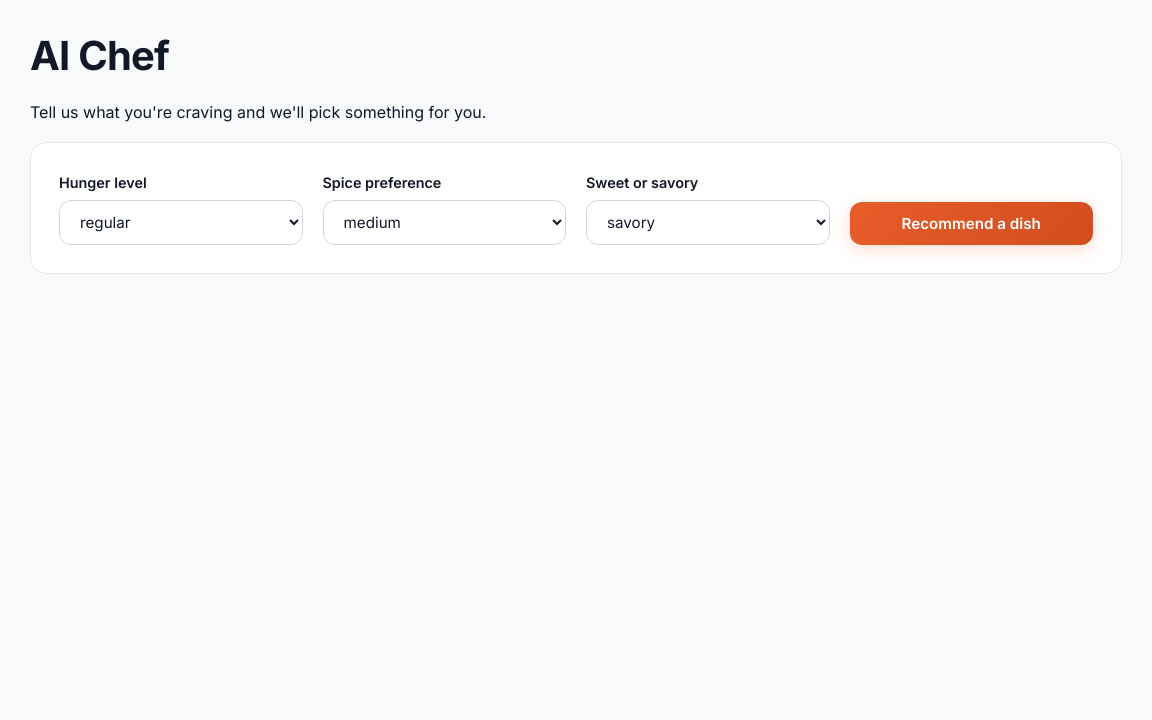
it: AIChefView renders a recommendation with confidence (Req 8.2, 8.3) › shows the recommended item and its confidence score after submit
Select "light" in the dropdown with test id "ai-chef-hunger" at (181, 223), box [59,200,302,245]
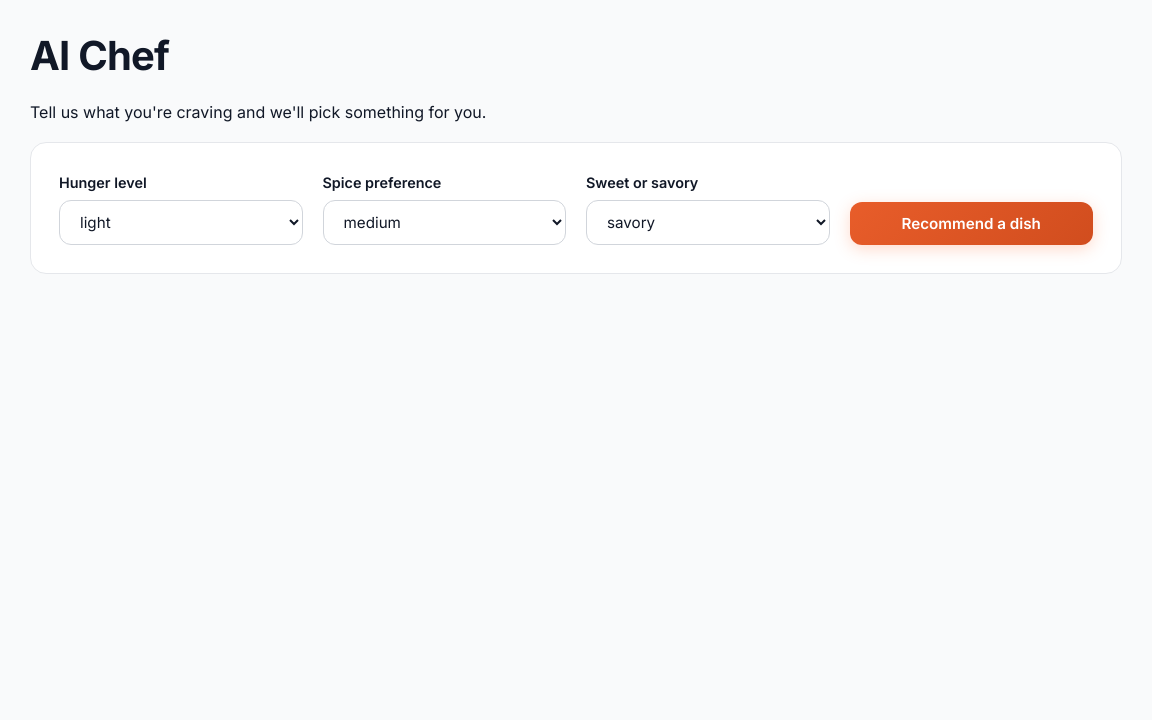
Select "mild" in the dropdown with test id "ai-chef-spice" at (444, 223), box [322,200,566,245]
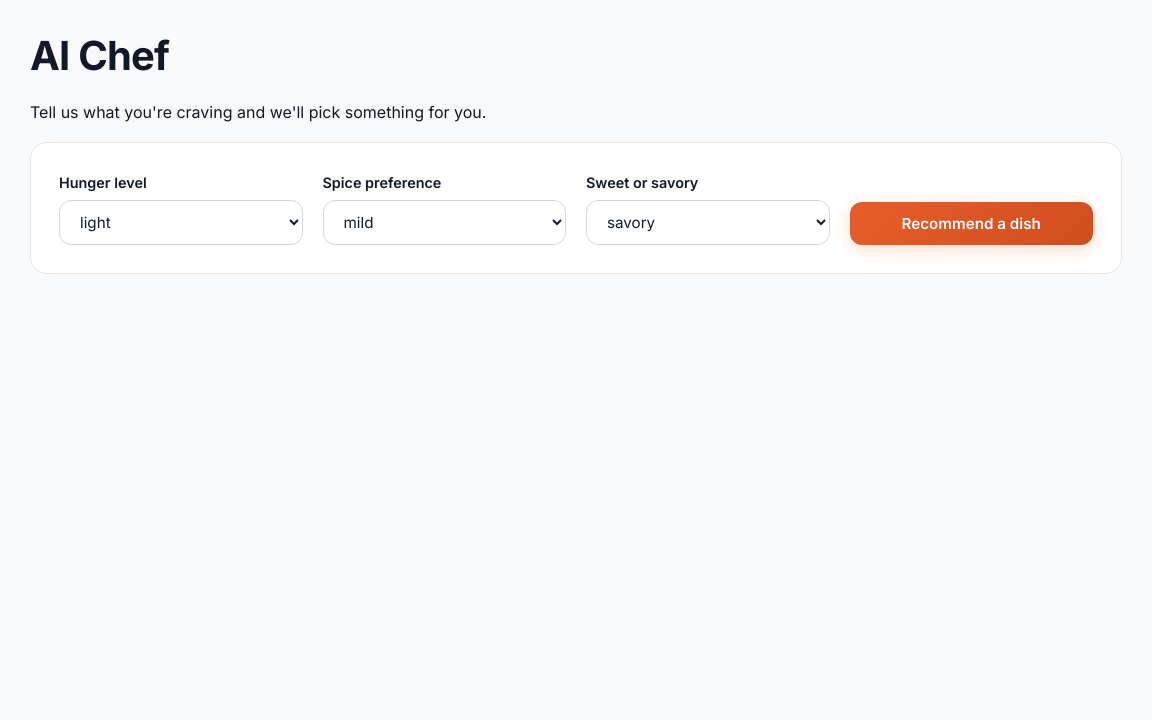
Select "sweet" in the dropdown with test id "ai-chef-taste" at (708, 223), box [586,200,830,245]
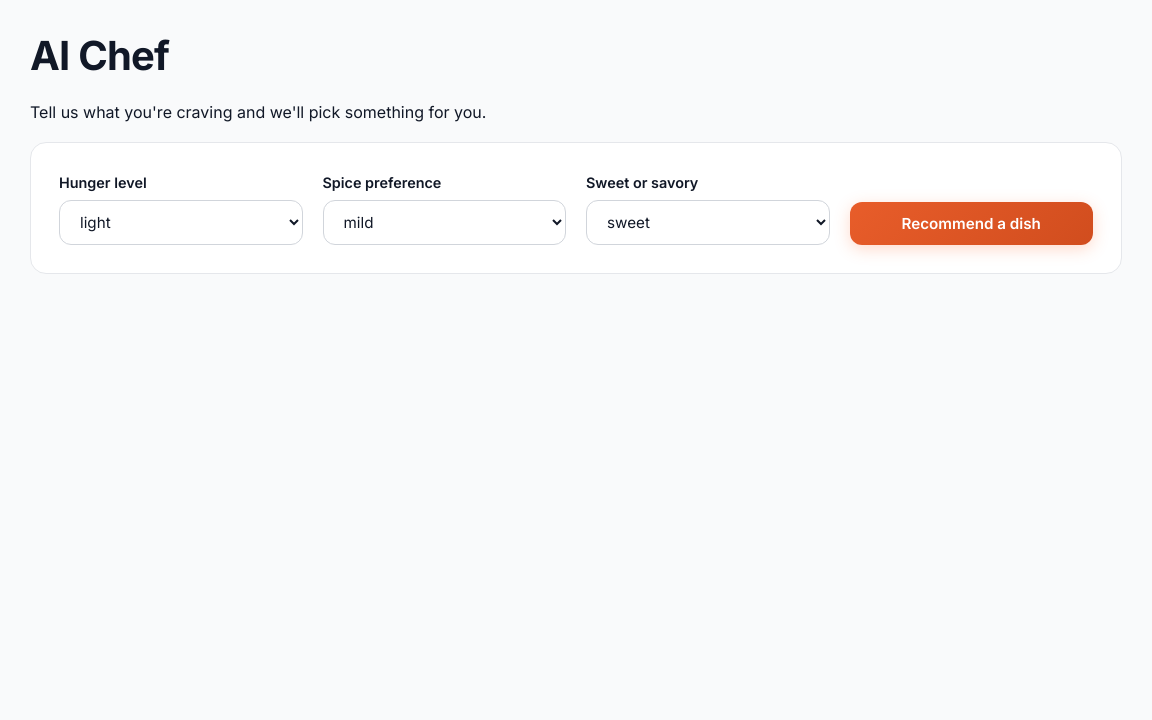
Click the button "Recommend a dish" at (971, 224), box [850,202,1093,245]
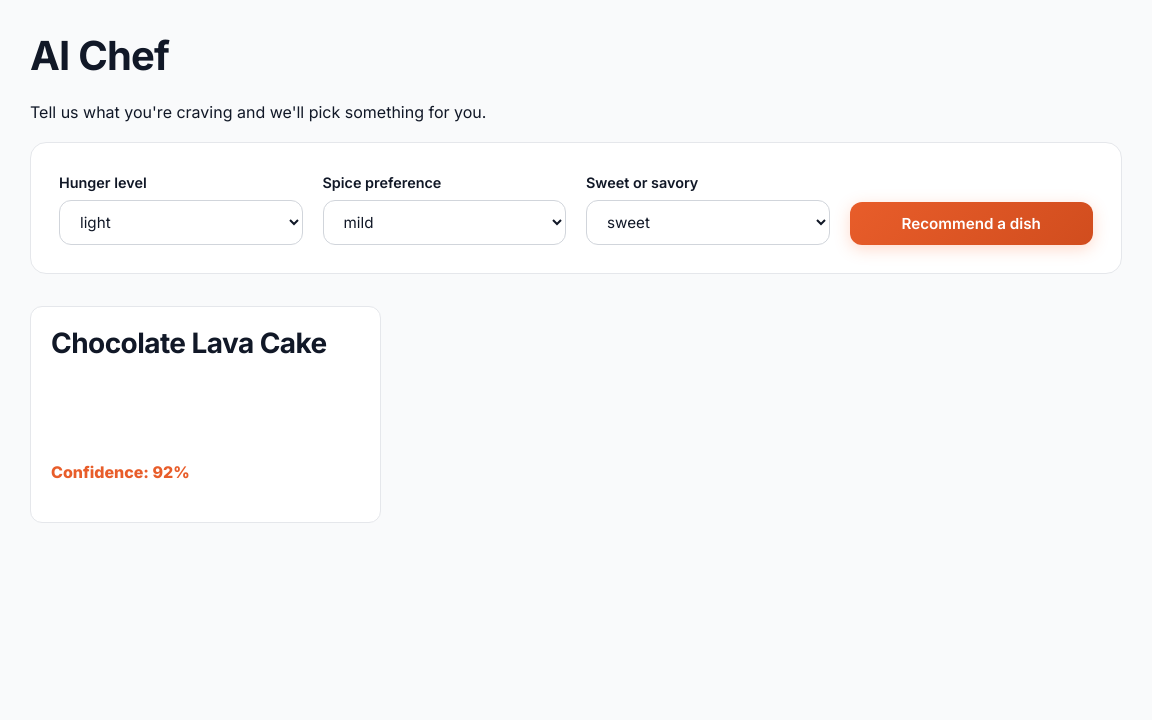
Result: the text with test id "ai-chef-confidence" shows "92%" at [51,462,190,482]
